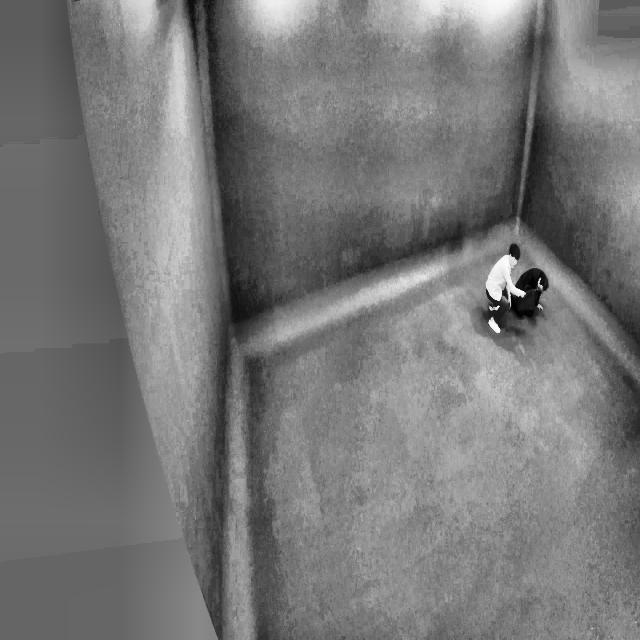assult: (476, 233, 555, 331)
